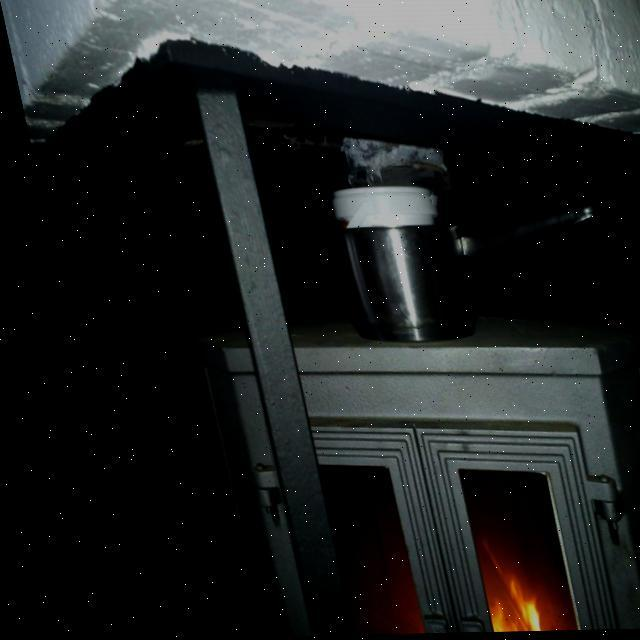Fire: (450, 549, 525, 633)
